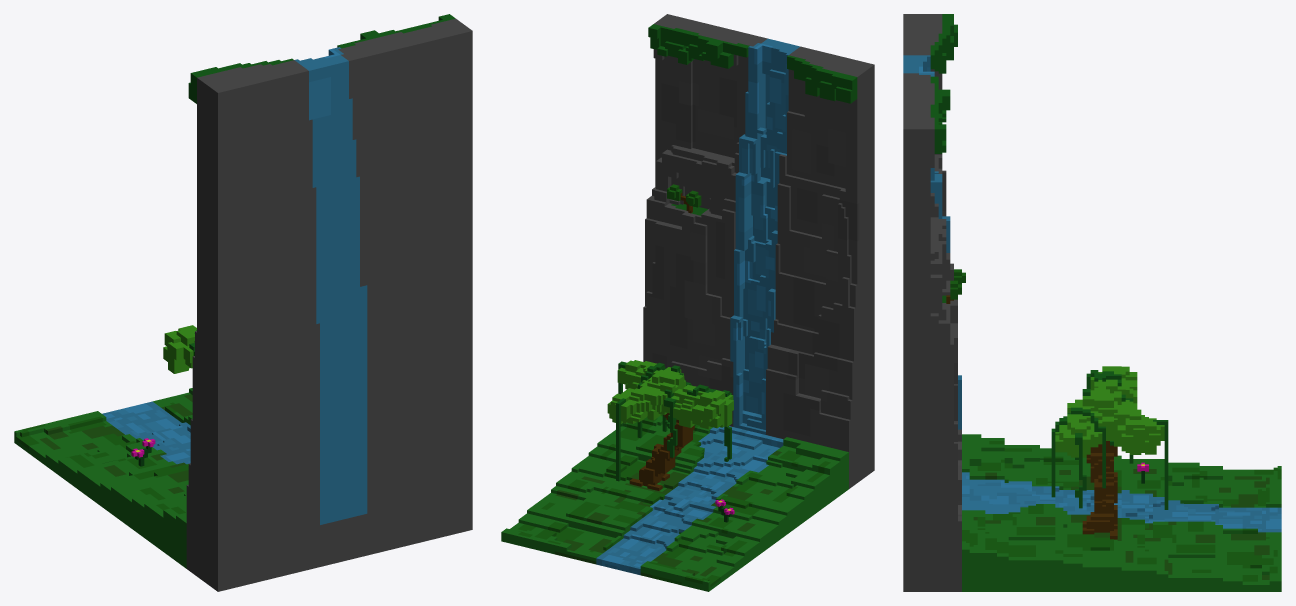
Rendered from river_s_02.obj.
3 renders of one model, left to right at view 1: azimuth 30°, elevation 25°; view 2: azimuth 150°, elevation 25°; view 3: azimuth 270°, elevation 25°, orthographic. The views are drawn at different scales.
Size of the model in its own units: 7 by 13.1 by 9.7.
1 material, 1 textured.
